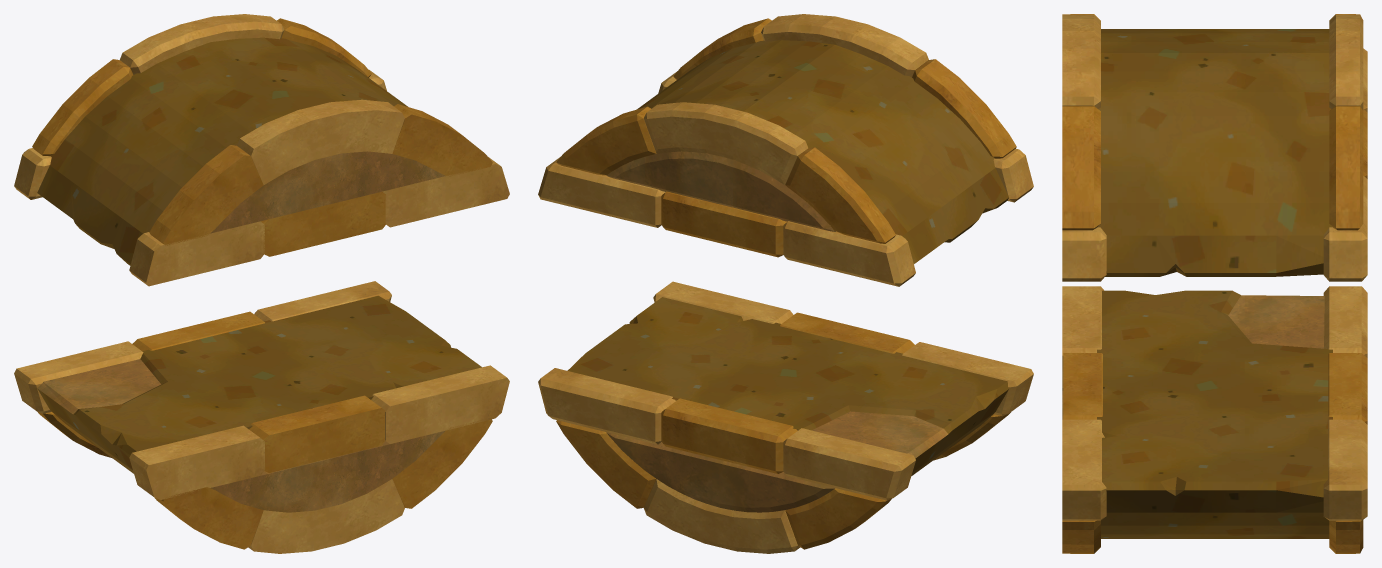
File: Clock B.obj
3 renders of one model, left to right at view 1: azimuth 30°, elevation 25°; view 2: azimuth 150°, elevation 25°; view 3: azimuth 270°, elevation 25°, orthographic. The views are drawn at different scales.
Parts seen in each view (by area): view 1: polySurface4629__Uchigawa00_AI, pCube1068_1__Stone02_AI, pCube1070_1__Stone05_AI, polySurface4629__Stone01_AI; view 2: polySurface4629__Uchigawa00_AI, pCube1068_1__Stone02_AI, pCube1070_1__Stone05_AI, polySurface4629__Stone01_AI; view 3: polySurface4629__Uchigawa00_AI, pCube1068_1__Stone02_AI, pCube1070_1__Stone05_AI, polySurface4629__Stone01_AI.
Boxes of the visible parts, <box> form: polySurface4629__Uchigawa00_AI: <box>37,37,481,473</box>; pCube1068_1__Stone02_AI: <box>14,14,509,553</box>; pCube1070_1__Stone05_AI: <box>32,18,492,549</box>; polySurface4629__Stone01_AI: <box>37,151,445,512</box>; polySurface4629__Uchigawa00_AI: <box>567,40,1008,475</box>; pCube1068_1__Stone02_AI: <box>538,14,1033,553</box>; pCube1070_1__Stone05_AI: <box>556,18,1016,549</box>; polySurface4629__Stone01_AI: <box>606,151,948,512</box>; polySurface4629__Uchigawa00_AI: <box>1097,29,1332,538</box>; pCube1068_1__Stone02_AI: <box>1062,14,1367,520</box>; pCube1070_1__Stone05_AI: <box>1062,14,1367,553</box>; polySurface4629__Stone01_AI: <box>1062,295,1324,419</box>.
Size of the model in its own units: 6.23 by 7.06 by 4.
4 materials, 4 textured.
